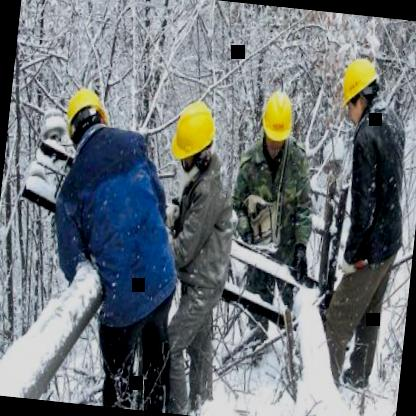helmet: (164, 90, 224, 180), (332, 48, 386, 127), (58, 83, 113, 155), (254, 85, 297, 157)
